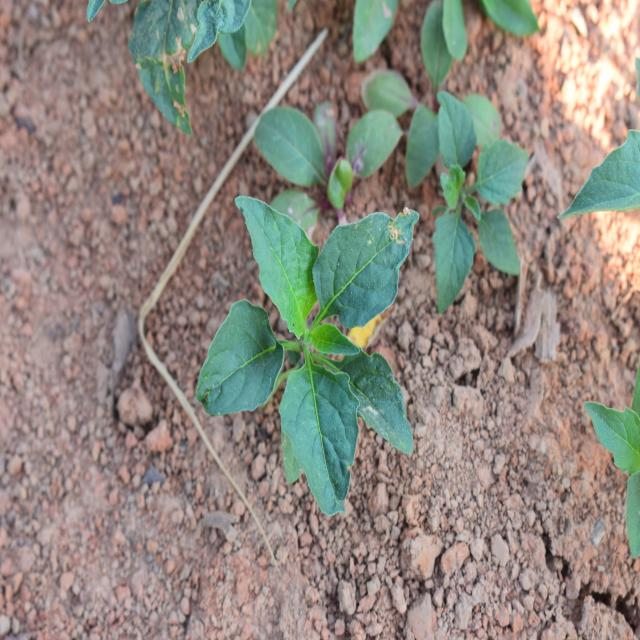Black_nightshade: (198, 176, 402, 508), (425, 107, 560, 327)
